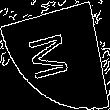M_E: (29, 27, 81, 83)
